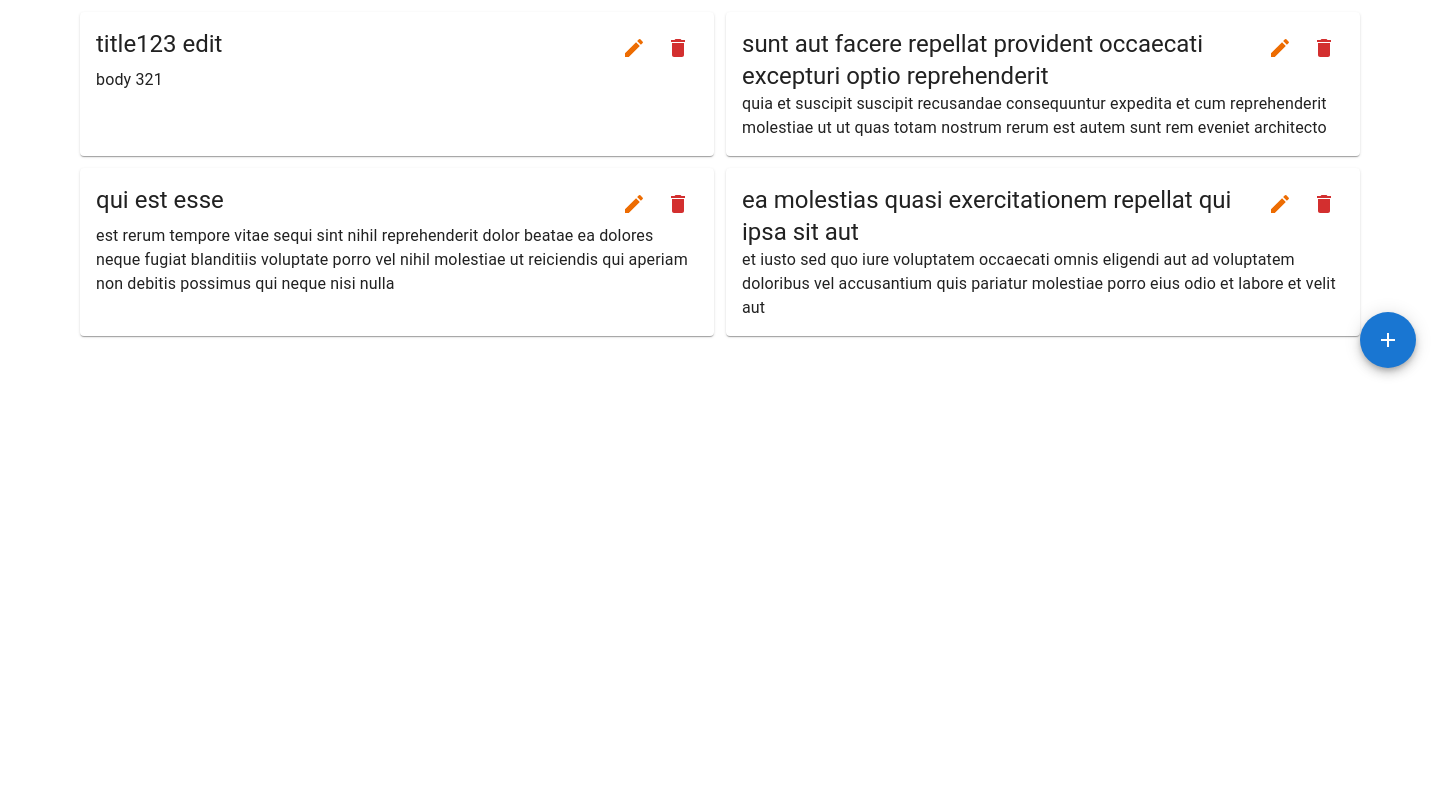
Test: Custom Posts Pages › success delete data
The image size is (1440, 810).
expect the number of elements with test id "card-item" is 4: met, box [80,12,714,156]; [726,12,1360,156]; [80,168,714,336]; [726,168,1360,336]
expect the heading "title123 edit" is shown: met, box [96,28,222,68]
Click the button named "delete-0".
click(678, 48)  # box [658,28,698,68]
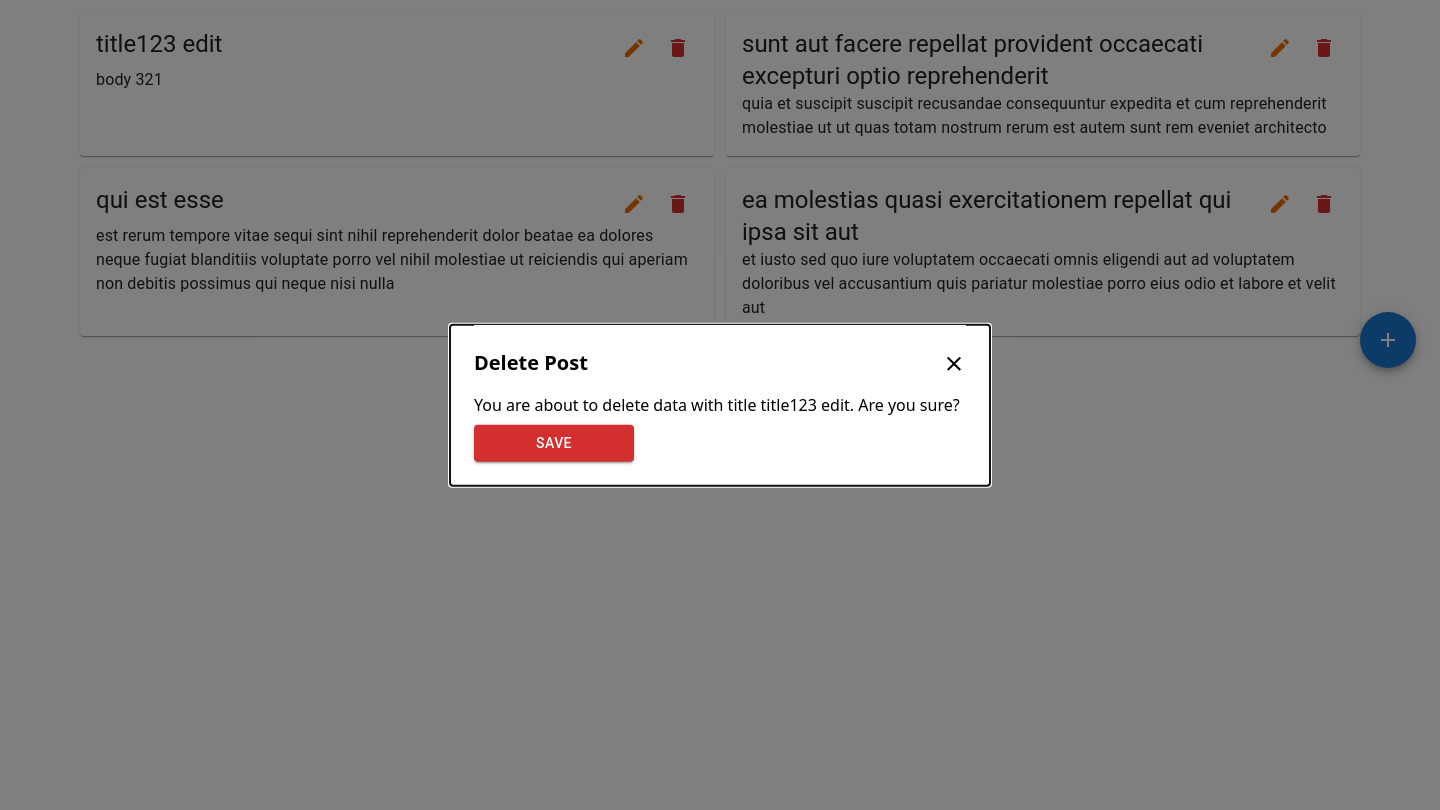
expect the text "delete post" is shown: met, box [474,349,588,377]
expect the text "You are about to delete data with title title123 edit. Are you sure?" is shown: met, box [474,393,966,417]
Click the button "Save".
click(554, 443)  # box [474,425,634,461]
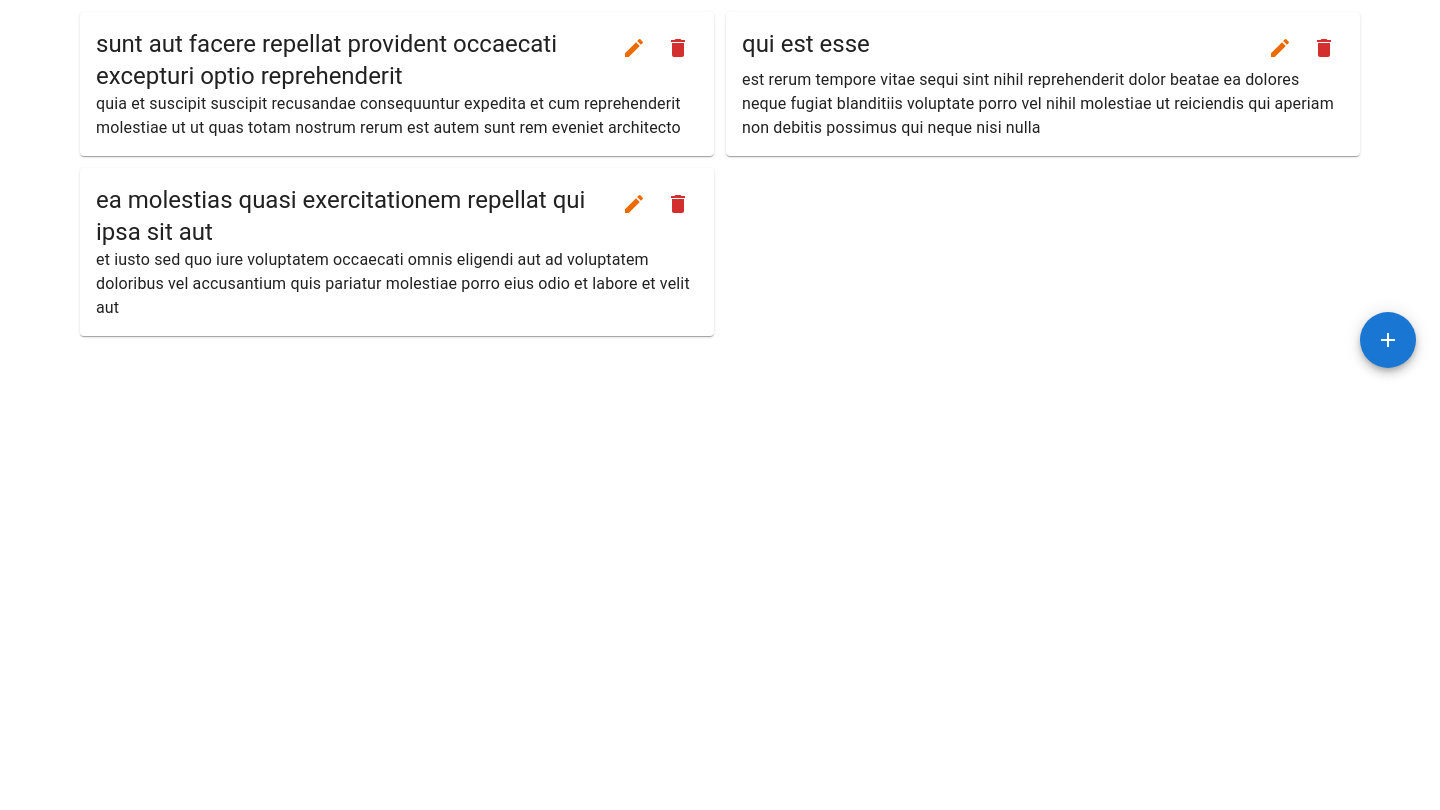
expect the number of elements with test id "card-item" is 3: met, box [80,12,714,156]; [726,12,1360,156]; [80,168,714,336]
